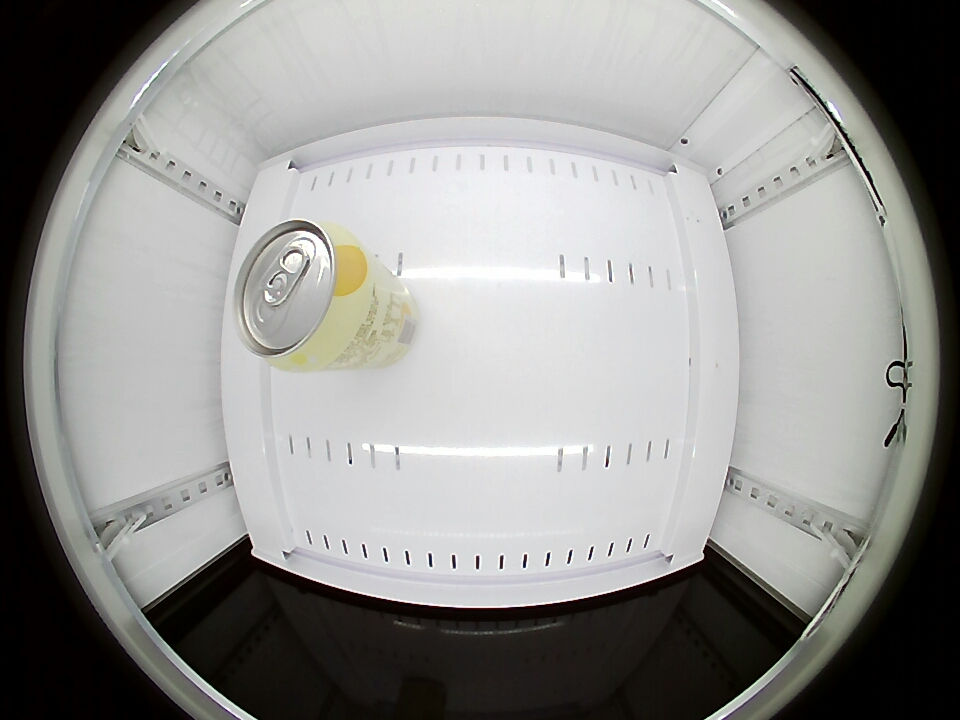mangguoxiaolao: (232, 218, 372, 371)
